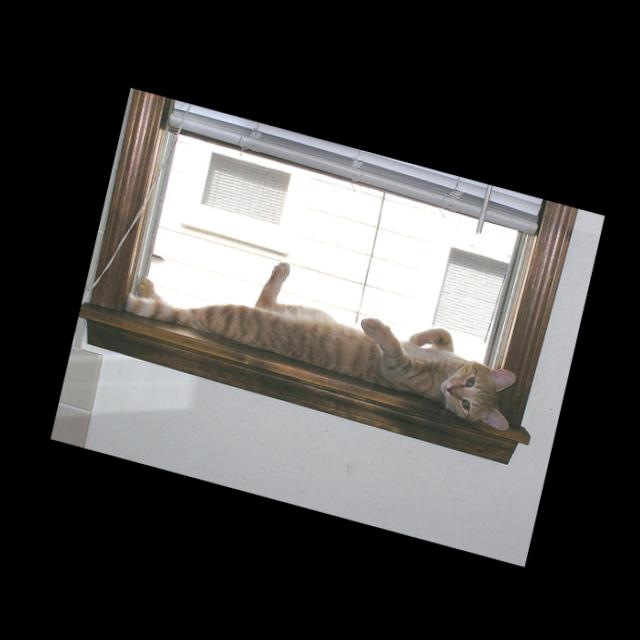animals: (440, 357, 520, 426)
